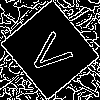V: (25, 24, 81, 79)
